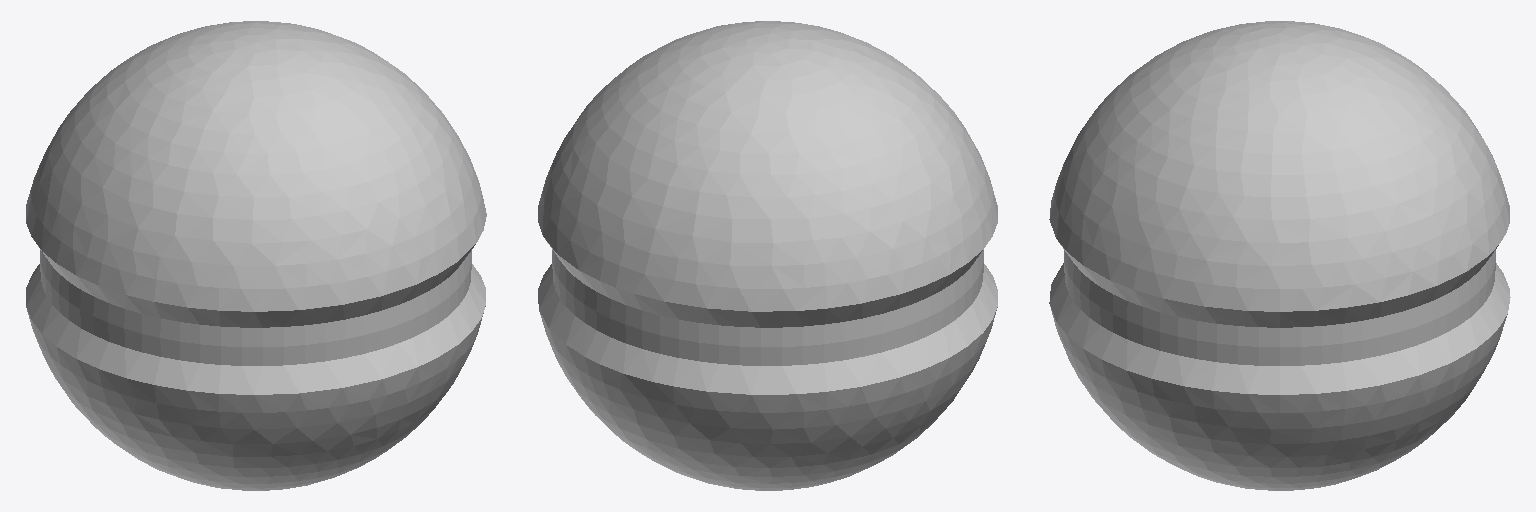
Rendered from enemy.obj.
3 renders of one model, left to right at view 1: azimuth 30°, elevation 25°; view 2: azimuth 150°, elevation 25°; view 3: azimuth 270°, elevation 25°, orthographic.
Parts seen in each view (by area): view 1: Sphere_Sphere_Material.004_Sphere_Sphere_Material.004_Material., Sphere_Sphere_Material.005_Sphere_Sphere_Material.005_Material.; view 2: Sphere_Sphere_Material.004_Sphere_Sphere_Material.004_Material., Sphere_Sphere_Material.005_Sphere_Sphere_Material.005_Material.; view 3: Sphere_Sphere_Material.004_Sphere_Sphere_Material.004_Material., Sphere_Sphere_Material.005_Sphere_Sphere_Material.005_Material..
Part boxes in pixels (left/top/right/bottom): Sphere_Sphere_Material.004_Sphere_Sphere_Material.004_Material.: left=26, top=21, right=486, bottom=490; Sphere_Sphere_Material.005_Sphere_Sphere_Material.005_Material.: left=40, top=250, right=471, bottom=365; Sphere_Sphere_Material.004_Sphere_Sphere_Material.004_Material.: left=538, top=21, right=997, bottom=490; Sphere_Sphere_Material.005_Sphere_Sphere_Material.005_Material.: left=552, top=250, right=983, bottom=365; Sphere_Sphere_Material.004_Sphere_Sphere_Material.004_Material.: left=1049, top=21, right=1510, bottom=490; Sphere_Sphere_Material.005_Sphere_Sphere_Material.005_Material.: left=1064, top=250, right=1495, bottom=365.
Size of the model in its own units: 1.96 by 2 by 1.96.